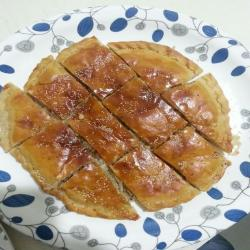apple_pie: (4, 40, 238, 224)
